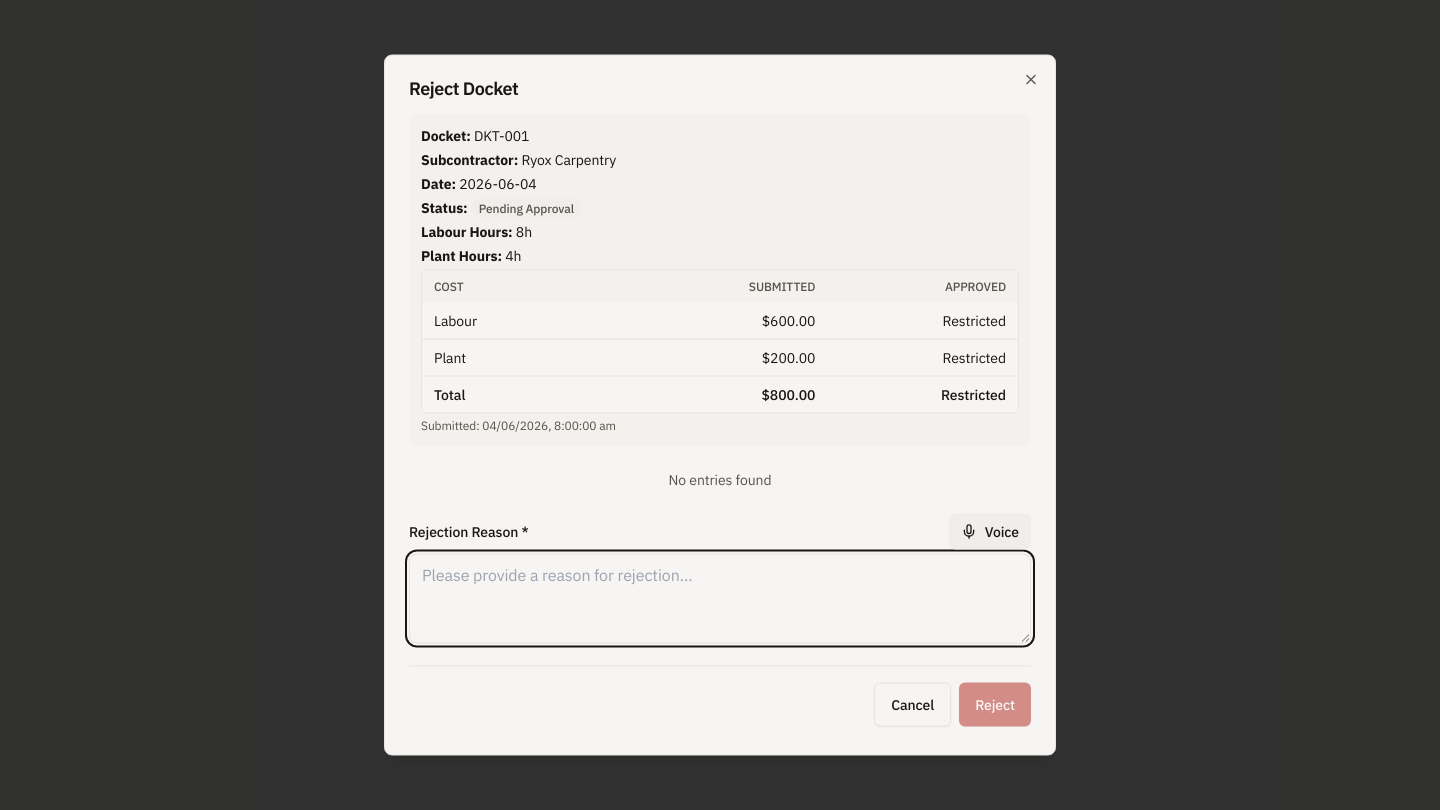
it: DocketActionModal › disables Reject/Send Query until notes are entered
This screenshot has width=1440, height=810.
Expected: the button "Reject" is disabled, x1=959 y1=682 x2=1031 y2=726
Type "wrong rates" into the text box labelled "Rejection Reason *".
click(720, 598); type("wrong rates")  # box x1=409 y1=554 x2=1031 y2=644
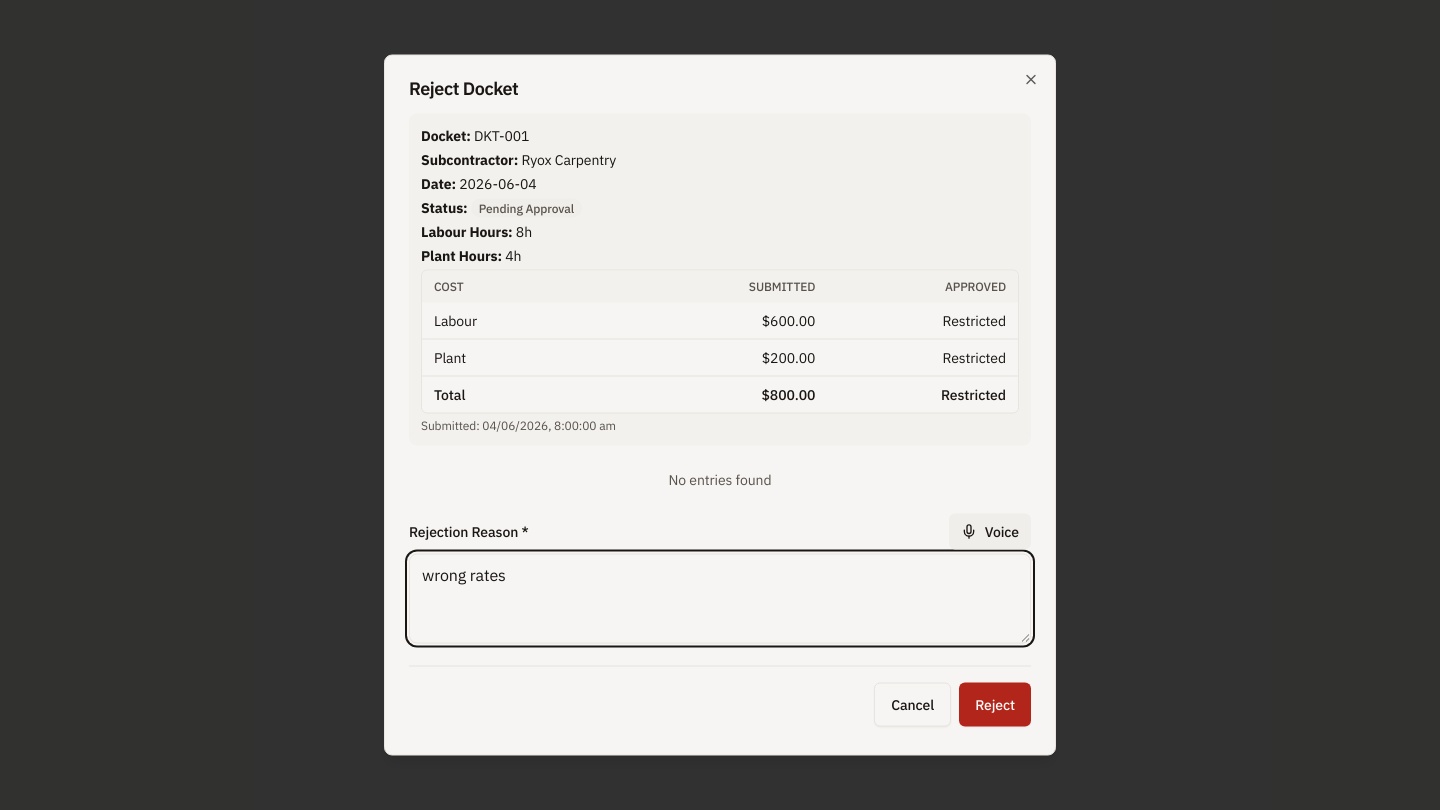
Expected: the button "Reject" is enabled, x1=959 y1=682 x2=1031 y2=726
